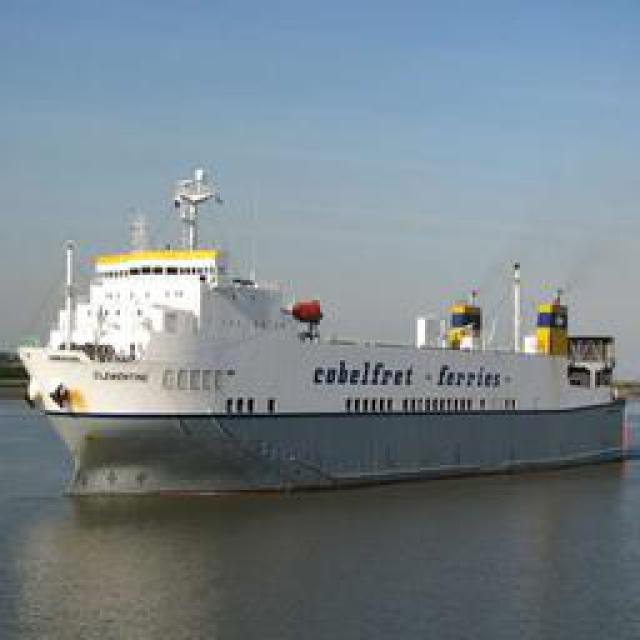Ship: (25, 164, 630, 499)
